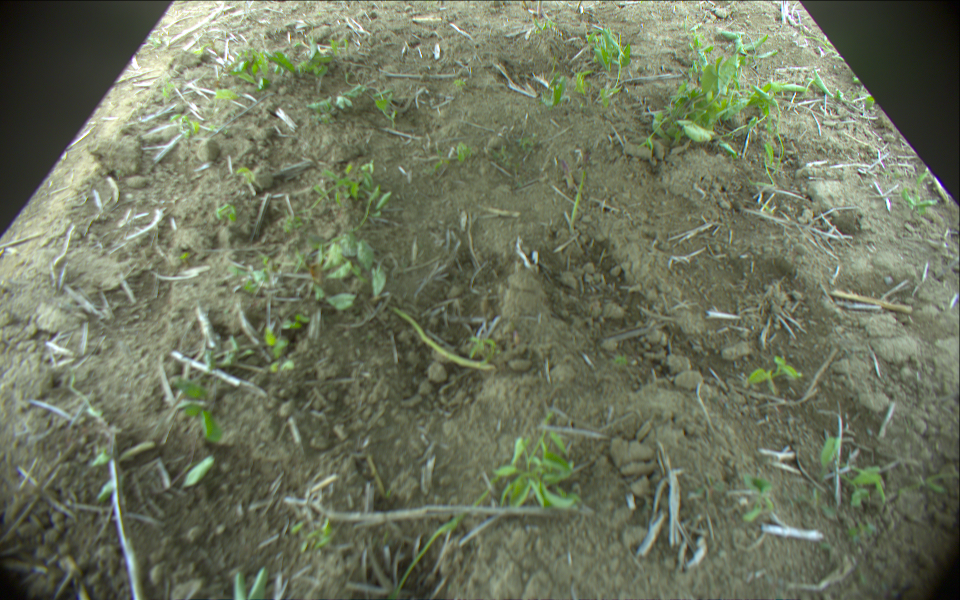aspa: (383, 304, 496, 372), (565, 161, 591, 228)
